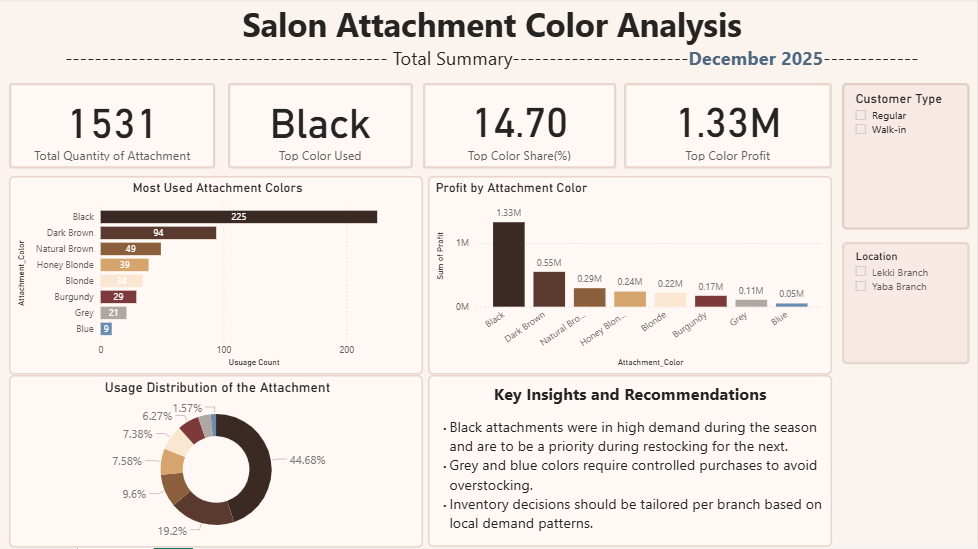

The page's visual inventory and layout, read from the dashboard file:
{"tool":"powerbi","page":{"name":"Page 1","canvas":[1280,720],"ordinal":0},"visuals":[{"type":"textbox","box":[10.3,0,1269.6,99.9],"z":0},{"type":"card","fields":{"Values":["Sheet1.Black Attachment Profit"]},"box":[818.4,111.7,271.8,111.7],"z":1000},{"type":"card","fields":{"Values":["Sum(Sheet1.Quantity_Used)"]},"box":[12.6,111.8,270.4,111.8],"z":2000},{"type":"card","fields":{"Values":["Sheet1.Top Color Percentage"]},"box":[555.4,111.7,252.7,111.7],"z":3000},{"type":"barChart","title":"Most Used Attachment Colors","fields":{"Category":["Sheet1.Attachment_Color"],"Y":["CountNonNull(Sheet1.Transaction_ID)"],"Series":["Sheet1.Attachment_Color"]},"box":[13.2,233.6,542.2,260.1],"z":4000},{"type":"donutChart","title":"Usage Distribution of the Attachment","fields":{"Category":["Sheet1.Attachment_Color"],"Y":["Sum(Sheet1.Quantity_Used)"]},"box":[13.2,493.7,542.2,226.3],"z":5000},{"type":"slicer","fields":{"Values":["Sheet1.Customer_Type"]},"box":[1103,111.7,166.7,192.4],"z":6000},{"type":"columnChart","title":"Profit by Attachment Color","fields":{"Category":["Sheet1.Attachment_Color"],"Y":["Sum(Sheet1.Profit)"],"Series":["Sheet1.Attachment_Color"]},"box":[561.3,233.6,529,260.1],"z":7000},{"type":"slicer","fields":{"Values":["Sheet1.Location"]},"box":[1103,319.6,166.7,159.8],"z":8000},{"type":"card","fields":{"Values":["Sheet1.Top Color"]},"box":[299.3,111.8,241.6,111.8],"z":9000},{"type":"textbox","box":[561.3,493.7,529,224.8],"z":10000}]}

Visuals, with their boxes in screenshot pixels (x1, y1, x2, y2), scaled from the page's 1280x720 canvas onto the 978x549 screenshot:
textbox: 8/0/977/76
card - Sheet1.Black Attachment Profit: 625/85/833/170
card - Sum(Sheet1.Quantity_Used): 10/85/216/170
card - Sheet1.Top Color Percentage: 424/85/617/170
"Most Used Attachment Colors" barChart: 10/178/424/376
"Usage Distribution of the Attachment" donutChart: 10/376/424/548
slicer - Sheet1.Customer_Type: 843/85/970/232
"Profit by Attachment Color" columnChart: 429/178/833/376
slicer - Sheet1.Location: 843/244/970/366
card - Sheet1.Top Color: 229/85/413/170
textbox: 429/376/833/548
